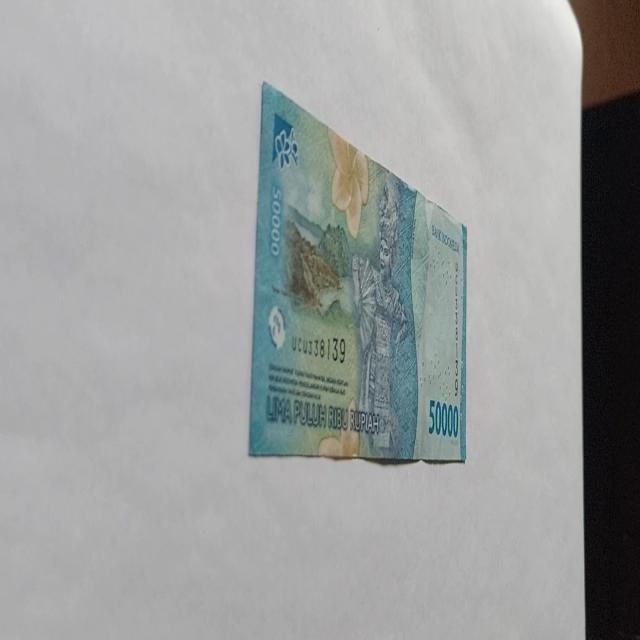lima puluh ribu rupiah: (247, 79, 468, 464)
